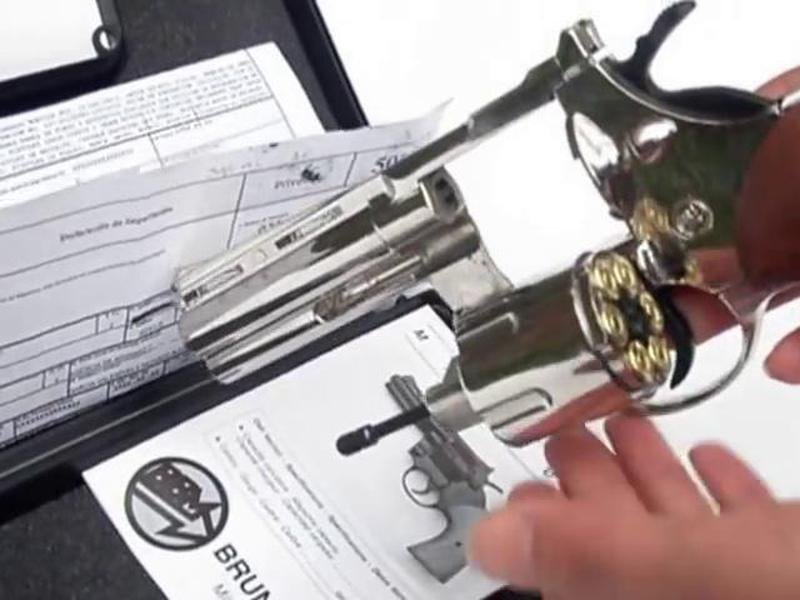Revolver: (163, 18, 800, 451)
